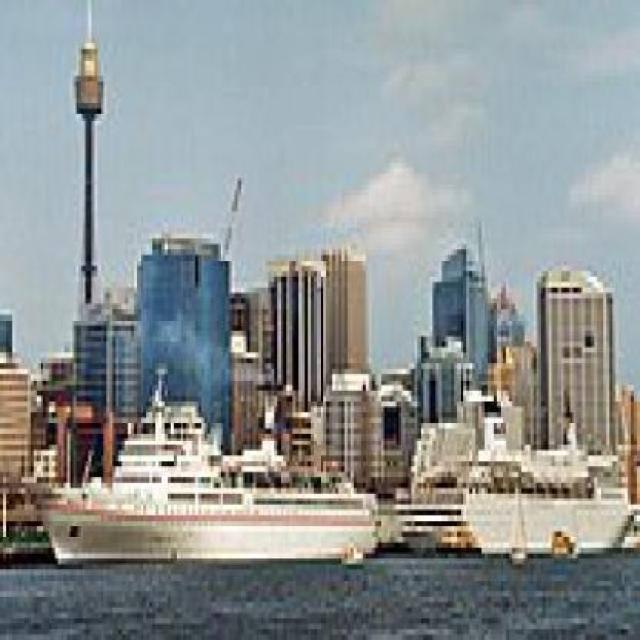cruise: (31, 375, 391, 570)
